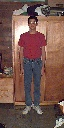person: (15, 16, 50, 118)
